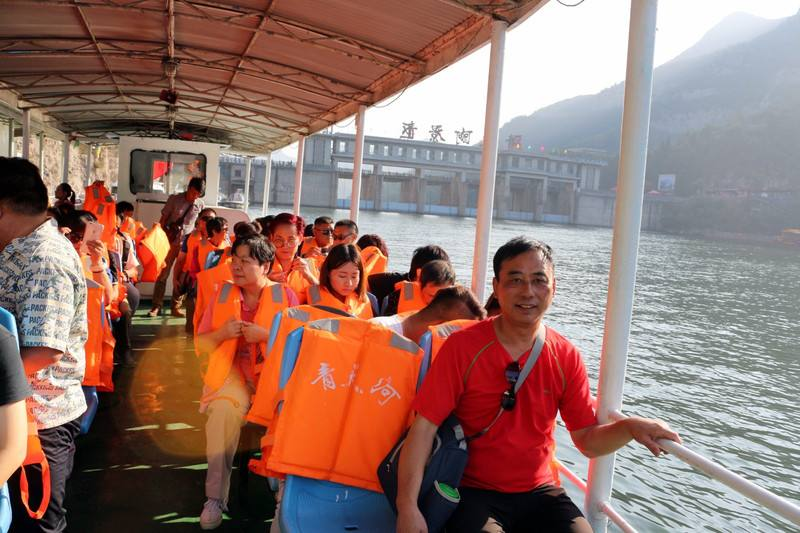other_clothes: (447, 320, 576, 492), (3, 223, 91, 425), (165, 191, 200, 239)
reflective_clothes: (205, 280, 295, 392), (309, 286, 381, 324), (269, 250, 326, 298)
